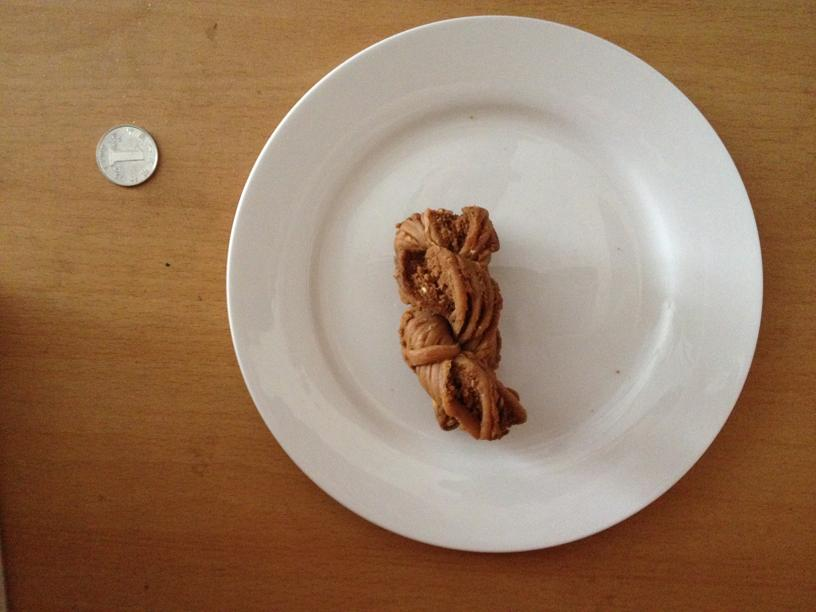coin: (91, 126, 161, 188)
fired_dough_twist: (391, 206, 531, 436)
